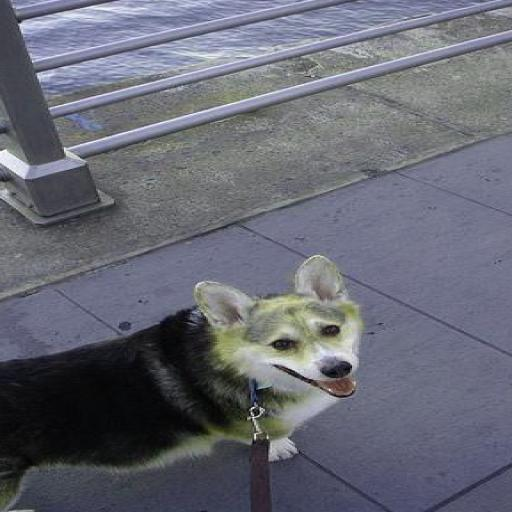dog_face: (176, 257, 372, 404)
